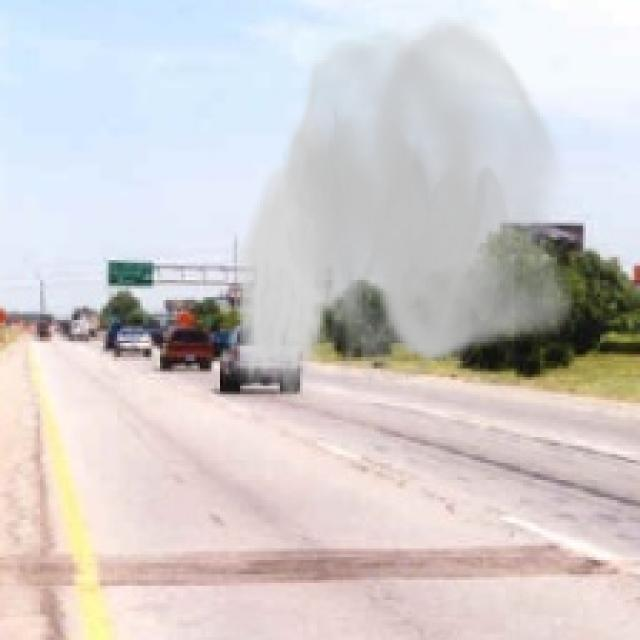Smoke: (228, 6, 574, 408)
